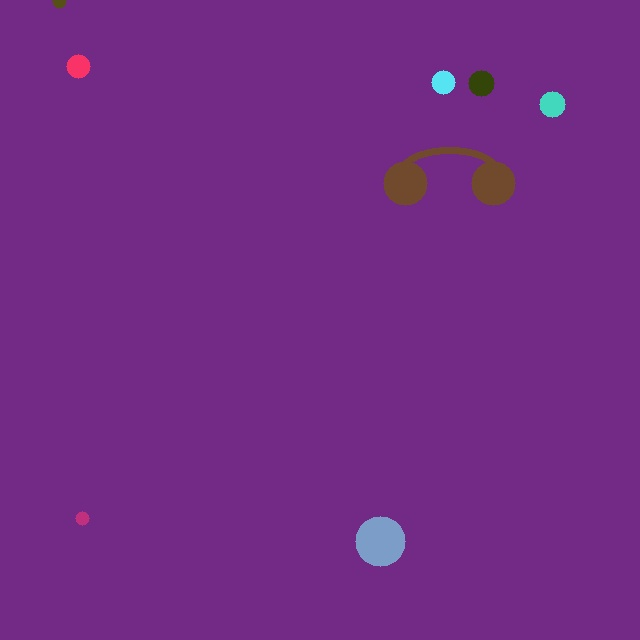over_ear: (379, 131, 519, 209)
